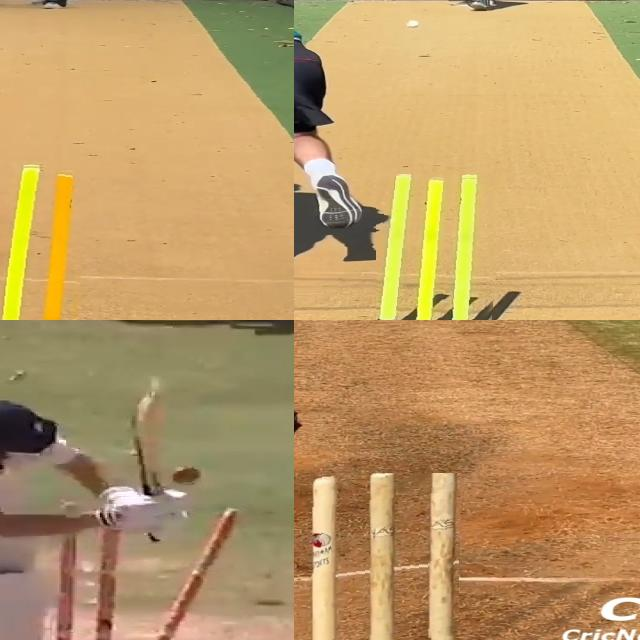Cricket ball: (169, 466, 205, 486), (404, 20, 422, 30)
Stumps: (308, 473, 461, 640), (376, 173, 506, 320), (0, 163, 92, 320)
